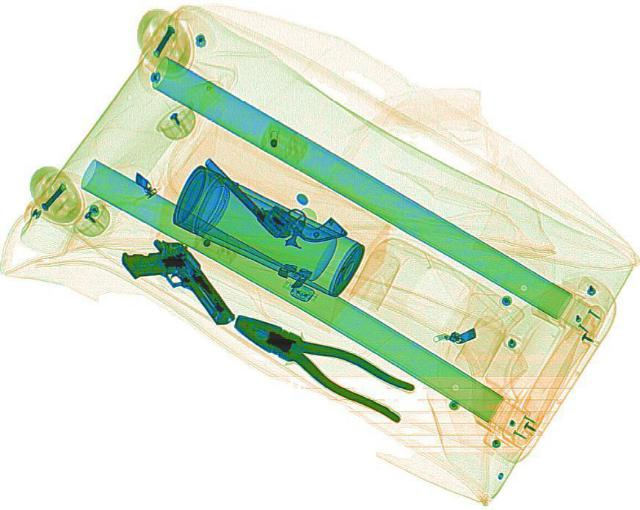Gun: (200, 133, 350, 259), (112, 228, 235, 340)
Pliers: (217, 296, 429, 423)
